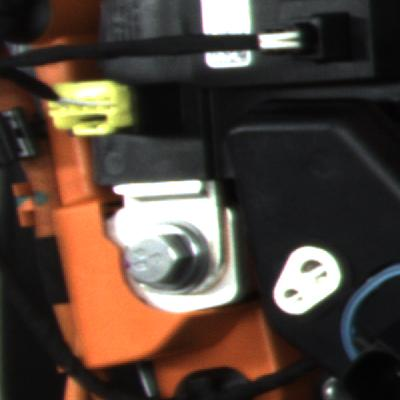nut_b: (118, 217, 219, 301)
